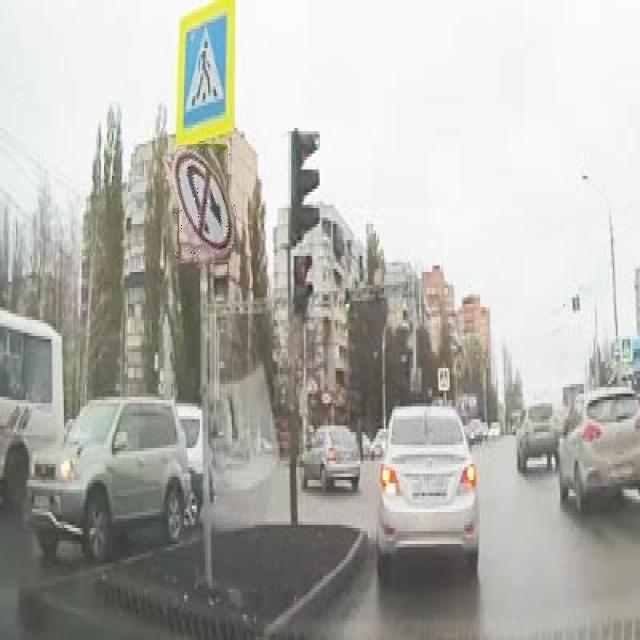no u turn: (170, 144, 236, 266)
